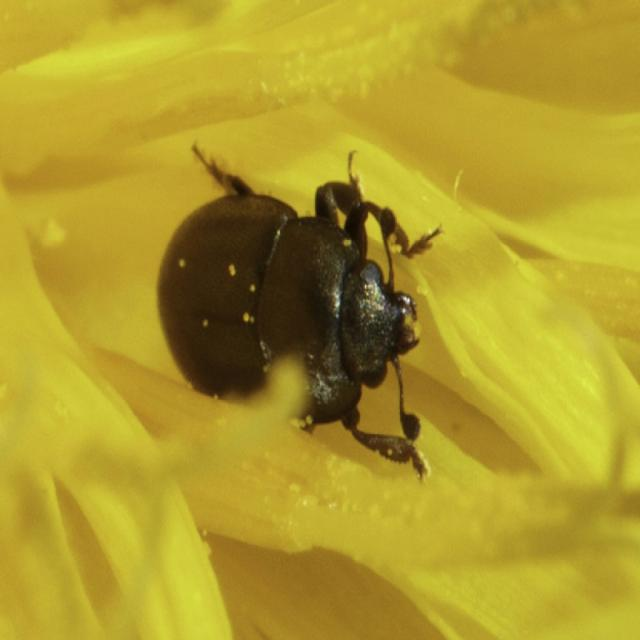pollen_beetle: (135, 132, 462, 496)
